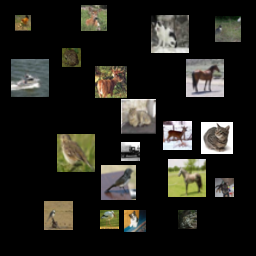airplane: (15, 154, 53, 192), (31, 204, 66, 239), (74, 184, 103, 213), (177, 133, 196, 152)
automobile: (82, 105, 101, 124)
bird: (177, 98, 209, 130), (56, 11, 88, 43), (213, 154, 242, 183), (36, 78, 62, 104)
cat: (23, 17, 52, 46)
deer: (111, 142, 143, 174), (181, 1, 200, 20), (117, 22, 133, 38)
frog: (109, 188, 141, 220), (72, 150, 101, 179)
ship: (195, 213, 233, 251), (159, 192, 178, 211)
